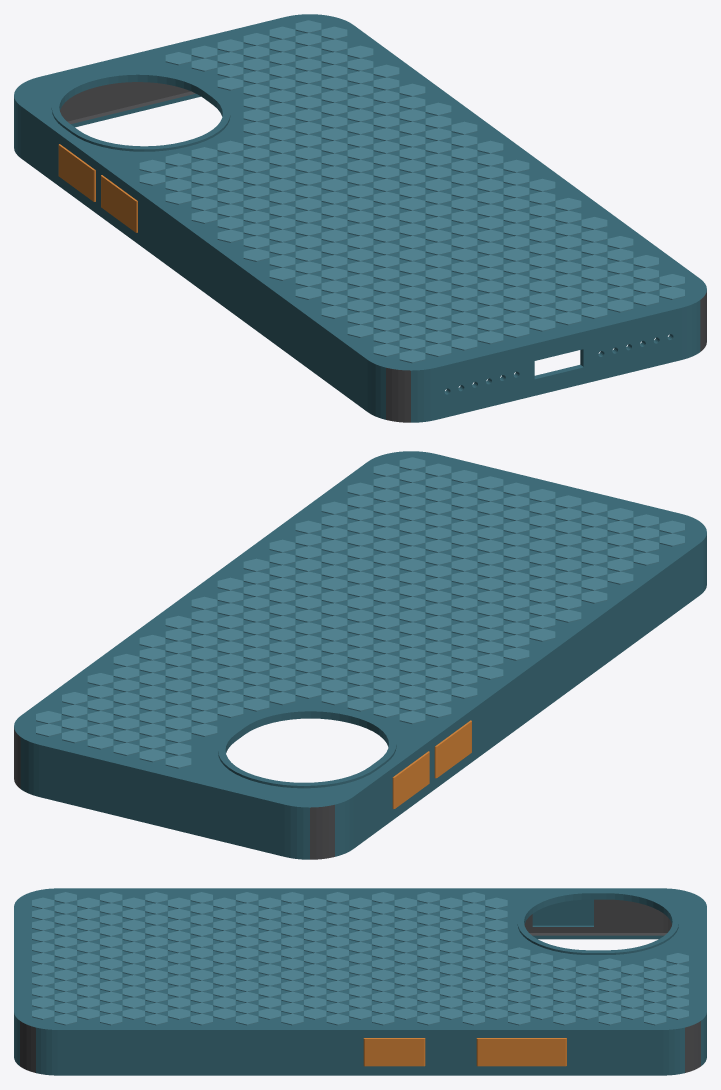
The model's file is kilif-rugged-altigen-okyanus.glb.
The picture shows the model from 3 angles, top to bottom: view 1: azimuth 30°, elevation 25°; view 2: azimuth 150°, elevation 25°; view 3: azimuth 270°, elevation 25°; orthographic projection. The views are drawn at different scales.
Visible parts, largest first — view 1: Kilif; view 2: Kilif; view 3: Kilif.
Boxes of the visible parts, box(x1,y1,x2,y2) form: Kilif: box(14, 14, 706, 422); Kilif: box(14, 451, 706, 859); Kilif: box(14, 888, 706, 1075).
Size of the model in its own units: 0.0828 by 0.0129 by 0.1694.
